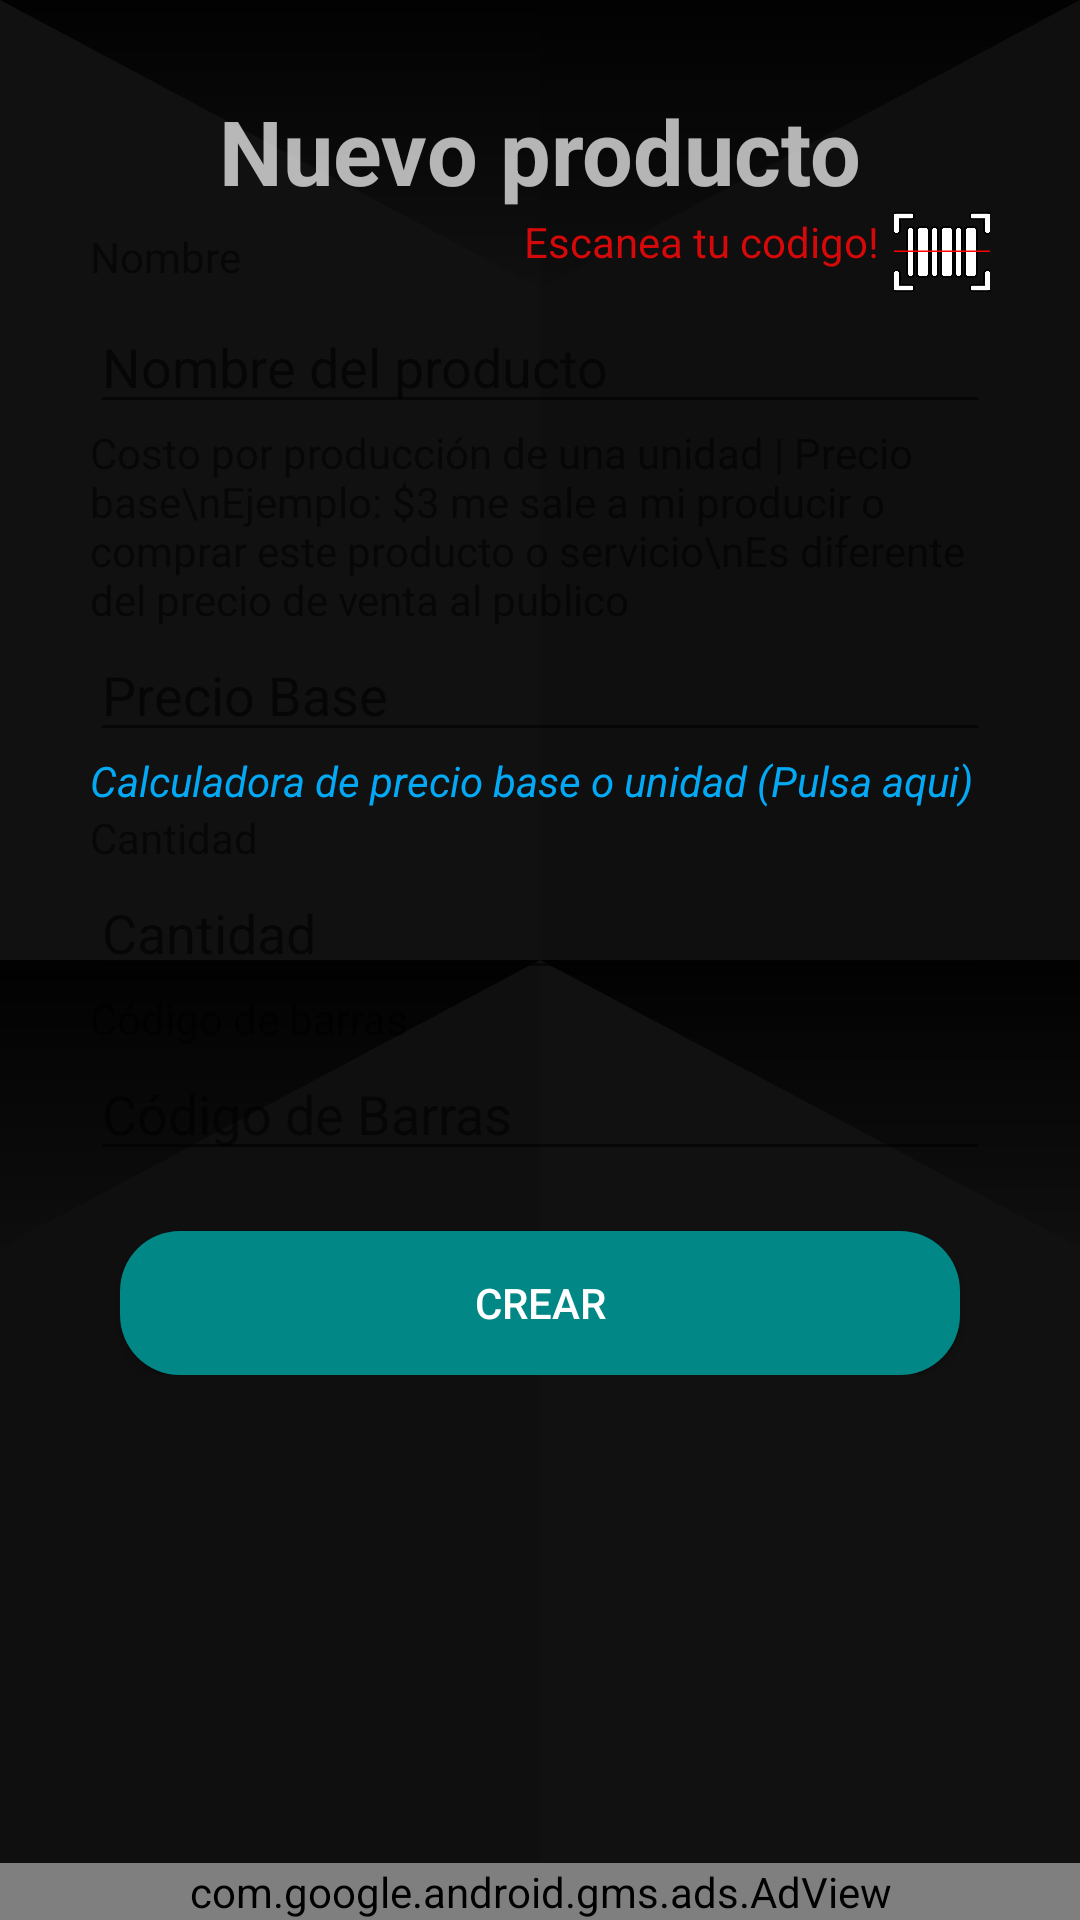

Where to tap for icons on this 1080*1920 app screen, as [x,y]:
barcode: [942,252]
